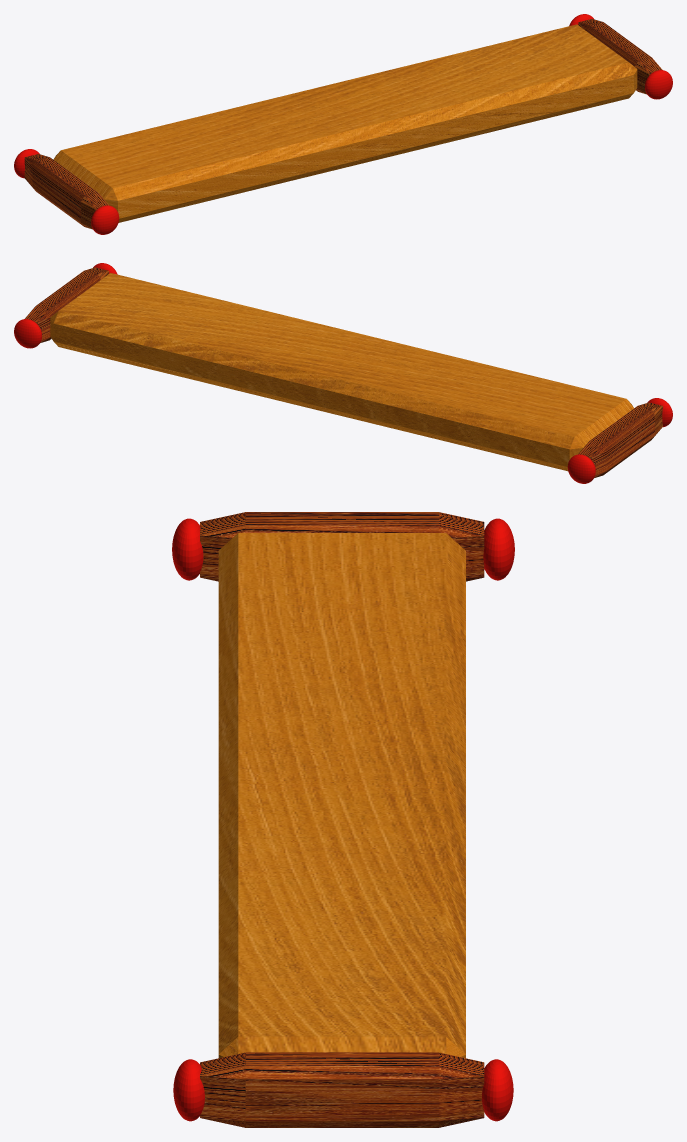
File: daimei__miniminifor.fbx
3 views of the same model, one above another, from view 1: azimuth 30°, elevation 25°; view 2: azimuth 150°, elevation 25°; view 3: azimuth 270°, elevation 25° (orthographic). The views are drawn at different scales.
Visible parts, largest first — view 1: Cube, Cube.001, Cube.002, Sphere.001, Sphere.003; view 2: Cube, Cube.001, Cube.002, Sphere, Sphere.002; view 3: Cube, Cube.002, Cube.001, Sphere, Sphere.002, Sphere.001, Sphere.003.
Boxes of the visible parts, <box> form: Cube: <box>53,24,637,222</box>; Cube.001: <box>24,154,108,229</box>; Cube.002: <box>578,19,662,94</box>; Sphere.001: <box>91,205,119,234</box>; Sphere.003: <box>645,70,672,99</box>; Cube: <box>50,273,633,471</box>; Cube.001: <box>578,402,662,477</box>; Cube.002: <box>25,267,109,342</box>; Sphere: <box>567,454,595,483</box>; Sphere.002: <box>14,319,41,348</box>; Cube: <box>218,533,465,1058</box>; Cube.002: <box>200,1052,484,1127</box>; Cube.001: <box>200,512,484,581</box>; Sphere: <box>483,518,514,580</box>; Sphere.002: <box>482,1059,513,1121</box>; Sphere.001: <box>172,518,203,580</box>; Sphere.003: <box>173,1059,204,1121</box>.
Bounding box in the file's own units: 1084 × 64.4 × 277.
